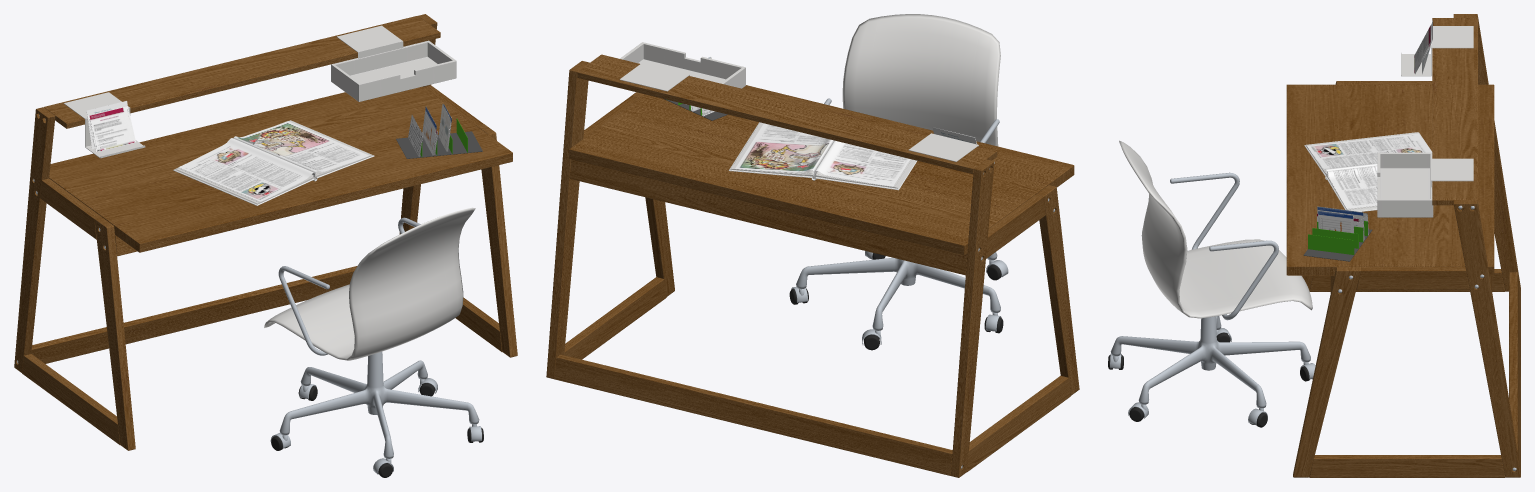
The model's file is A23DMOD_FBX.fbx.
3 views of the same model, side by side, from view 1: azimuth 30°, elevation 25°; view 2: azimuth 150°, elevation 25°; view 3: azimuth 270°, elevation 25° (orthographic). The views are drawn at different scales.
Parts seen in each view (by area): view 1: A23DOBJ_002, A23DOBJ_001, A23DOBJ_004, A23DOBJ_005, A23DOBJ_003, A23DOBJ_006, A23DOBJ_007; view 2: A23DOBJ_002, A23DOBJ_001, A23DOBJ_004, A23DOBJ_005, A23DOBJ_007; view 3: A23DOBJ_002, A23DOBJ_001, A23DOBJ_004, A23DOBJ_005, A23DOBJ_003, A23DOBJ_007, A23DOBJ_006.
Boxes of the visible parts, x1,y1,x2,y2 form: A23DOBJ_002: (14,14,517,450); A23DOBJ_001: (264,207,483,477); A23DOBJ_004: (173,120,374,205); A23DOBJ_005: (331,25,456,101); A23DOBJ_003: (396,104,482,158); A23DOBJ_006: (86,101,135,151); A23DOBJ_007: (64,92,145,158); A23DOBJ_002: (546,54,1079,477); A23DOBJ_001: (789,14,1008,350); A23DOBJ_004: (728,122,917,190); A23DOBJ_005: (619,42,745,91); A23DOBJ_007: (908,133,994,163); A23DOBJ_002: (1286,14,1520,477); A23DOBJ_001: (1108,140,1315,427); A23DOBJ_004: (1304,132,1432,211); A23DOBJ_005: (1377,152,1473,217); A23DOBJ_003: (1303,206,1372,261); A23DOBJ_007: (1401,26,1473,76); A23DOBJ_006: (1414,20,1432,74).
Size of the model in its own units: 147 by 102 by 135.
16 materials, 16 textured.
